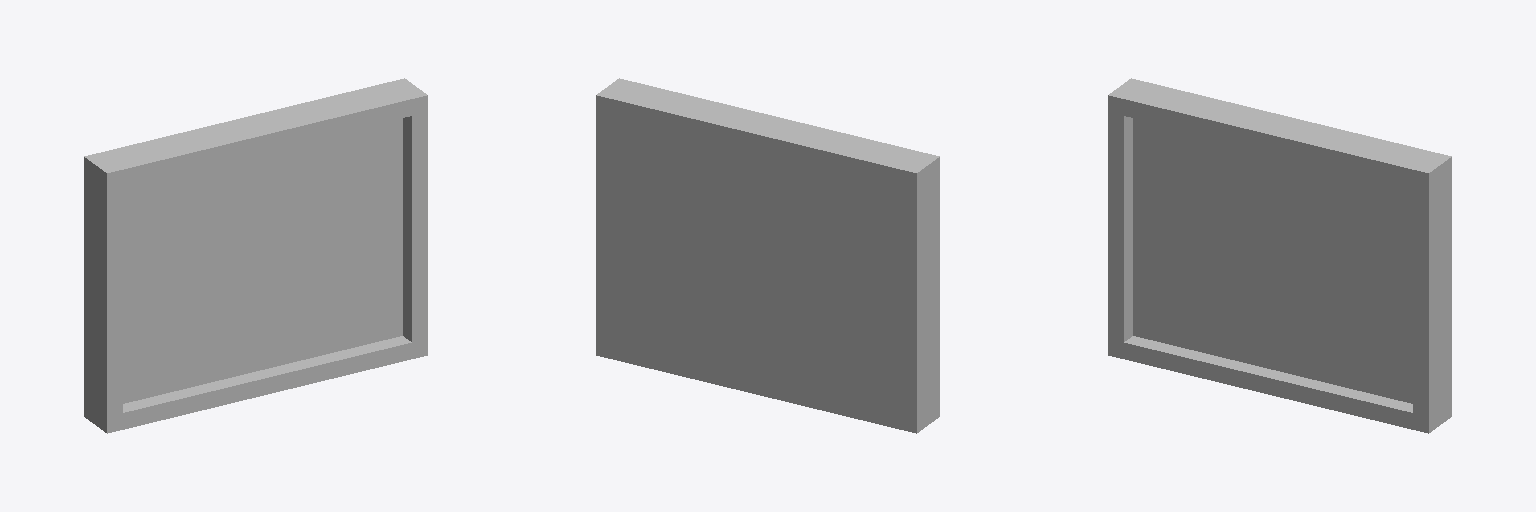
The model's file is bord.obj.
The picture shows the model from 3 angles: view 1: azimuth 30°, elevation 25°; view 2: azimuth 150°, elevation 25°; view 3: azimuth 330°, elevation 25°; orthographic projection.
Visible parts, largest first — view 1: bord; view 2: bord; view 3: bord.
Boxes of the visible parts, box(x1,y1,x2,y2) form: bord: box(84, 78, 427, 433); bord: box(596, 78, 939, 433); bord: box(1108, 78, 1451, 433).
Bounding box in the file's own units: 40 × 31 × 5.